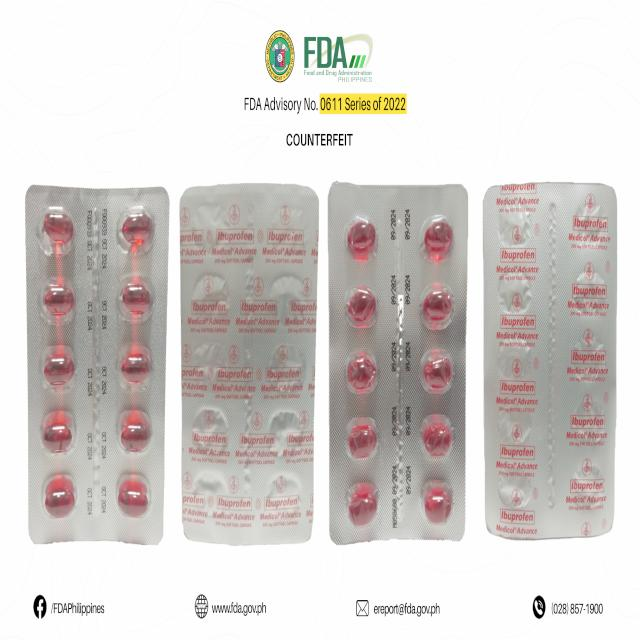counterfeit: (23, 174, 165, 552), (180, 174, 316, 550), (326, 180, 466, 542), (482, 177, 616, 541)
